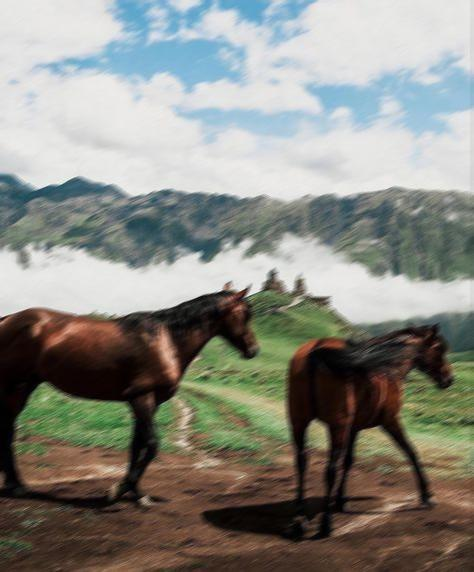horse: (0, 280, 259, 508), (284, 321, 454, 538)
